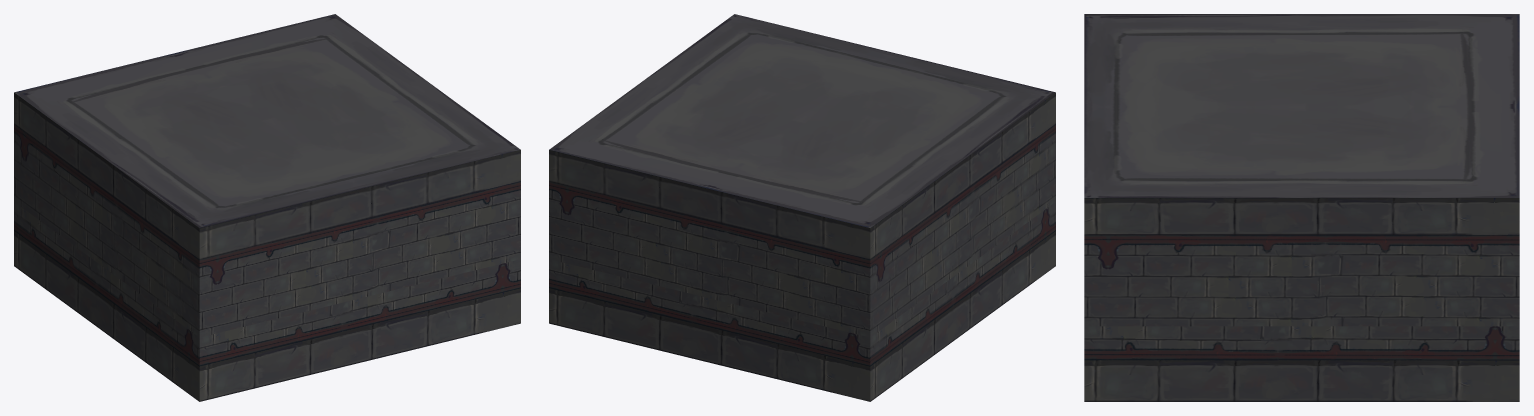
File: Pillar_Square_03.glb
The picture shows the model from 3 angles, left to right: view 1: azimuth 30°, elevation 25°; view 2: azimuth 150°, elevation 25°; view 3: azimuth 270°, elevation 25°; orthographic projection. The views are drawn at different scales.
Parts seen in each view (by area): view 1: Plane.007; view 2: Plane.007; view 3: Plane.007.
Part boxes in pixels (bbox=[...]): Plane.007: bbox=[14, 14, 520, 401]; Plane.007: bbox=[549, 14, 1055, 401]; Plane.007: bbox=[1084, 14, 1519, 401].
Size of the model in its own units: 4.05 by 2.09 by 4.05.
Materials: 1 (1 with a texture image).
